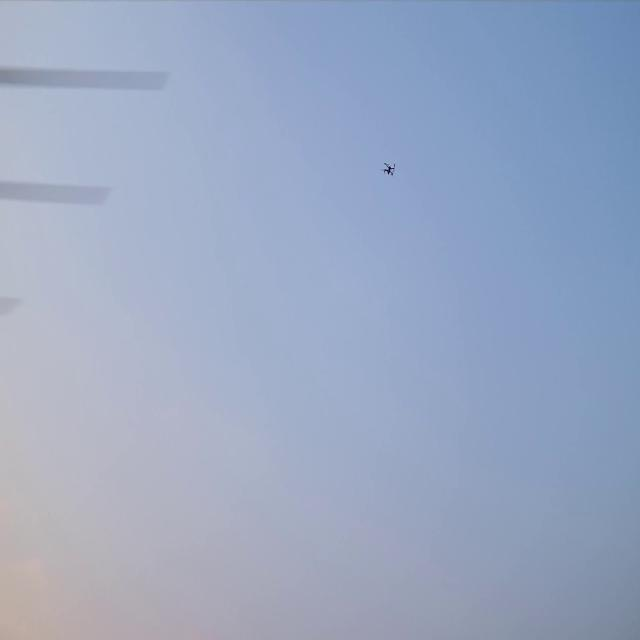UAV: (384, 163, 394, 174)
